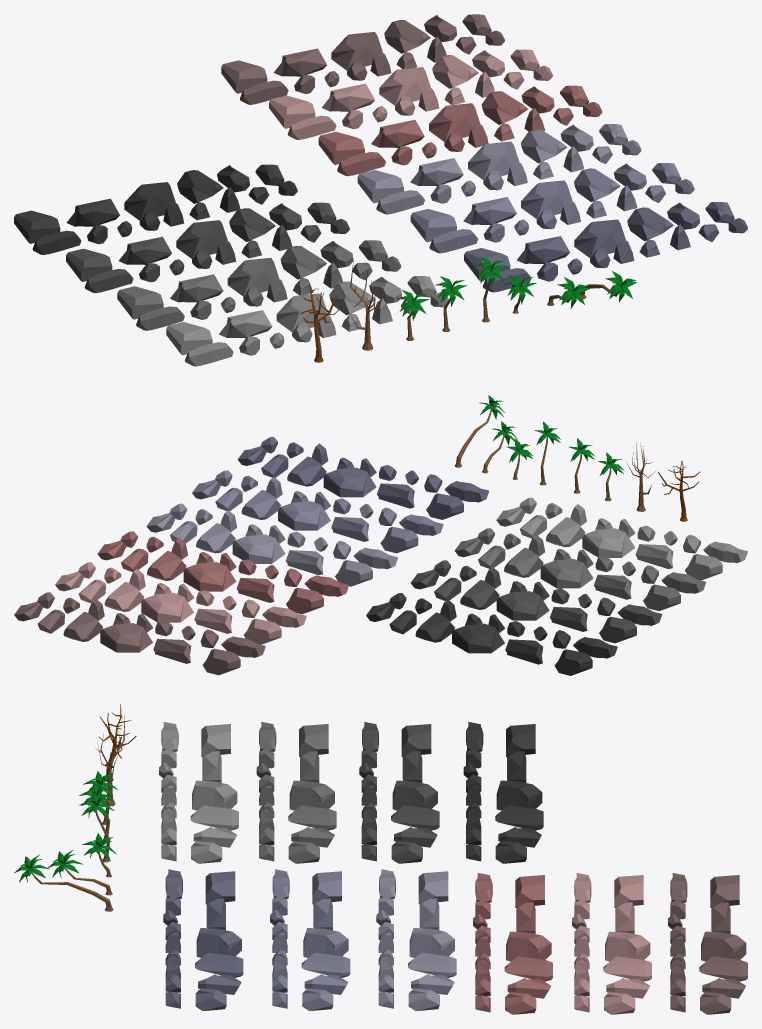
The model's file is rocks2.glb.
3 renders of one model, top to bottom at view 1: azimuth 30°, elevation 25°; view 2: azimuth 150°, elevation 25°; view 3: azimuth 270°, elevation 25°, orthographic. The views are drawn at different scales.
Parts seen in each view (by area): view 1: Material_001-material (×63); view 2: Material_001-material (×52); view 3: Material_001-material (×63).
Part boxes in pixels (<box>): Material_001-material (×63): <box>14,15,699,366</box>; Material_001-material (×52): <box>63,395,747,675</box>; Material_001-material (×63): <box>14,724,747,1014</box>.
Bounding box in the file's own units: 208 × 33.15 × 230.
1 material, 1 textured.
